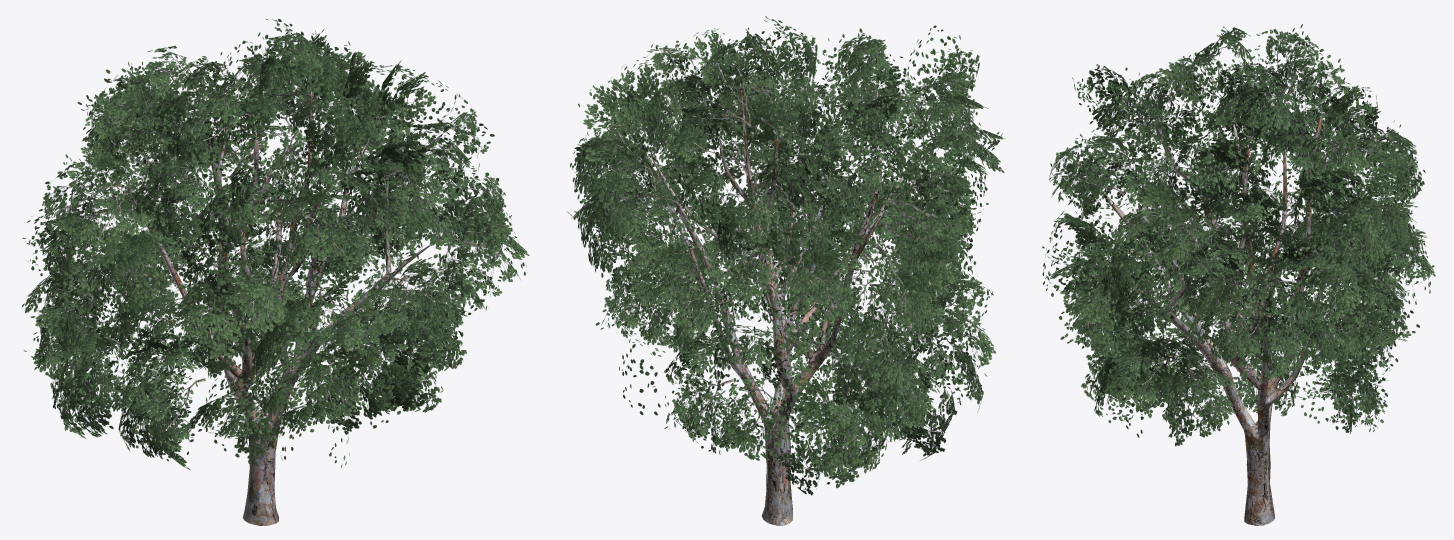
File: tree2.b6451c58.glb
3 renders of one model, left to right at view 1: azimuth 30°, elevation 25°; view 2: azimuth 150°, elevation 25°; view 3: azimuth 270°, elevation 25°, orthographic. The views are drawn at different scales.
Visible parts, largest first — view 1: 树叶2, 树干2; view 2: 树叶2, 树干2; view 3: 树叶2, 树干2.
Boxes of the visible parts, box(x1,y1,x2,y2) form: 树叶2: box(21, 18, 529, 470); 树干2: box(126, 88, 429, 525); 树叶2: box(567, 16, 1005, 495); 树干2: box(650, 83, 915, 525); 树叶2: box(1042, 24, 1435, 446); 树干2: box(1102, 115, 1384, 525).
Size of the model in its own units: 19.26 by 21.96 by 17.13.
2 materials, 2 textured.
